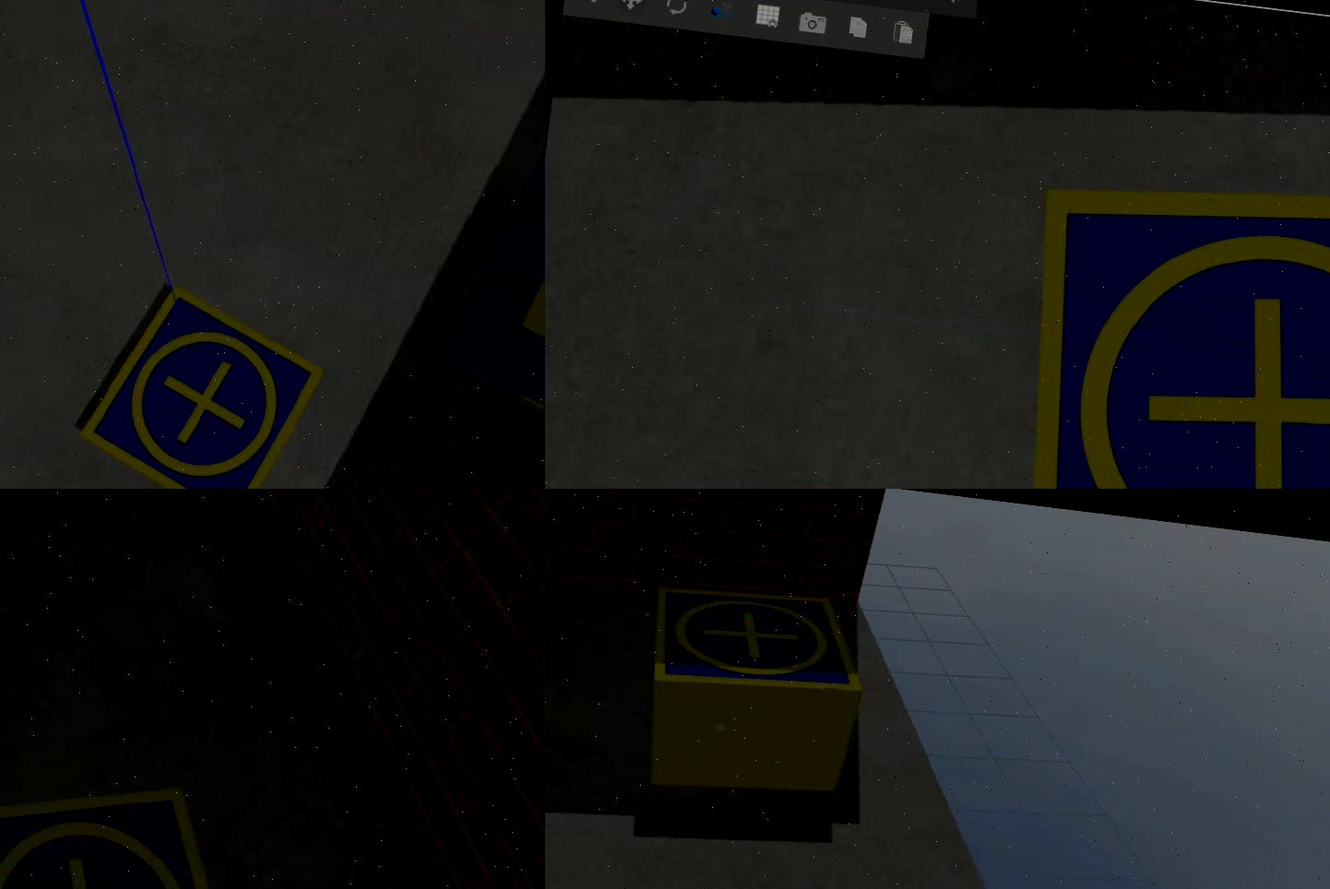large_base: (418, 1, 545, 490)
small_base: (993, 147, 1330, 490), (66, 279, 333, 490), (1, 756, 279, 889), (647, 579, 874, 713)
